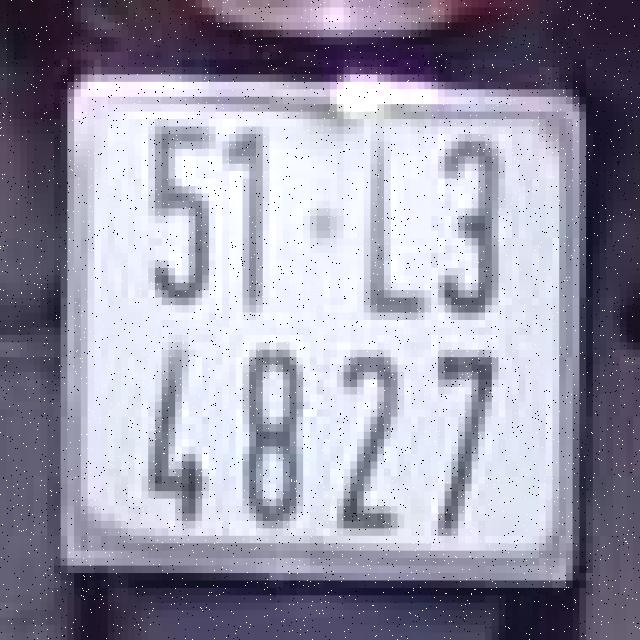1: (232, 108, 286, 324)
2: (324, 335, 404, 543)
3: (431, 116, 505, 332)
4: (125, 331, 219, 547)
5: (135, 112, 222, 320)
7: (424, 331, 512, 555)
8: (232, 320, 293, 543)
L: (353, 104, 428, 320)
